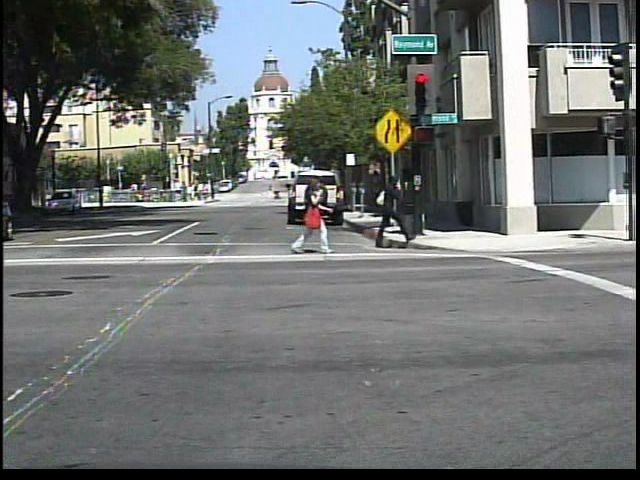person: (288, 171, 333, 255), (370, 168, 414, 251), (272, 187, 284, 203)
